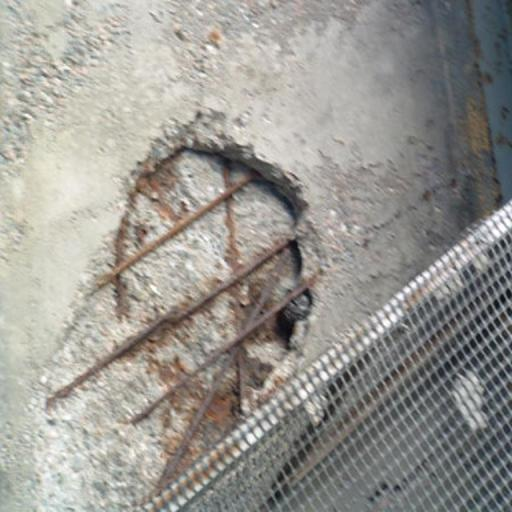spalling: (62, 147, 314, 509)
